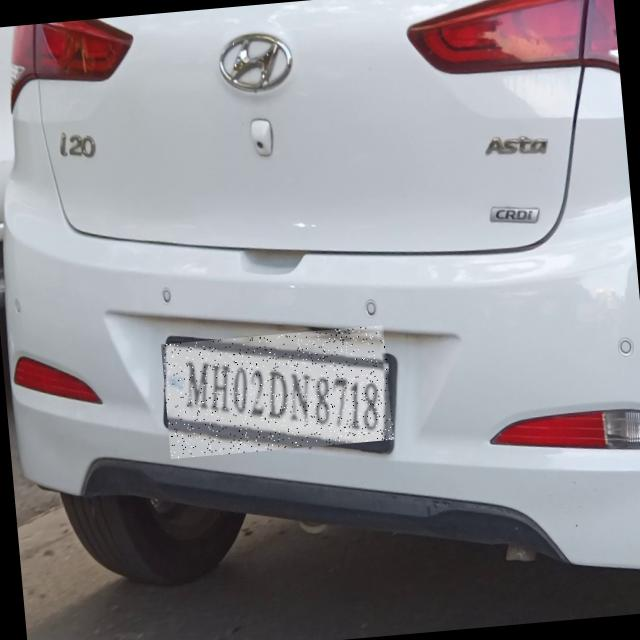Plate: (162, 326, 395, 460)
